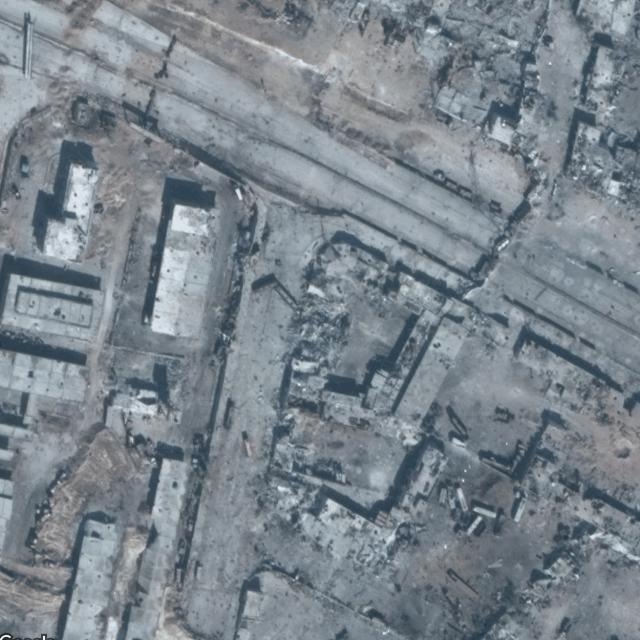damaged_building: (230, 245, 638, 637), (312, 0, 635, 226)
